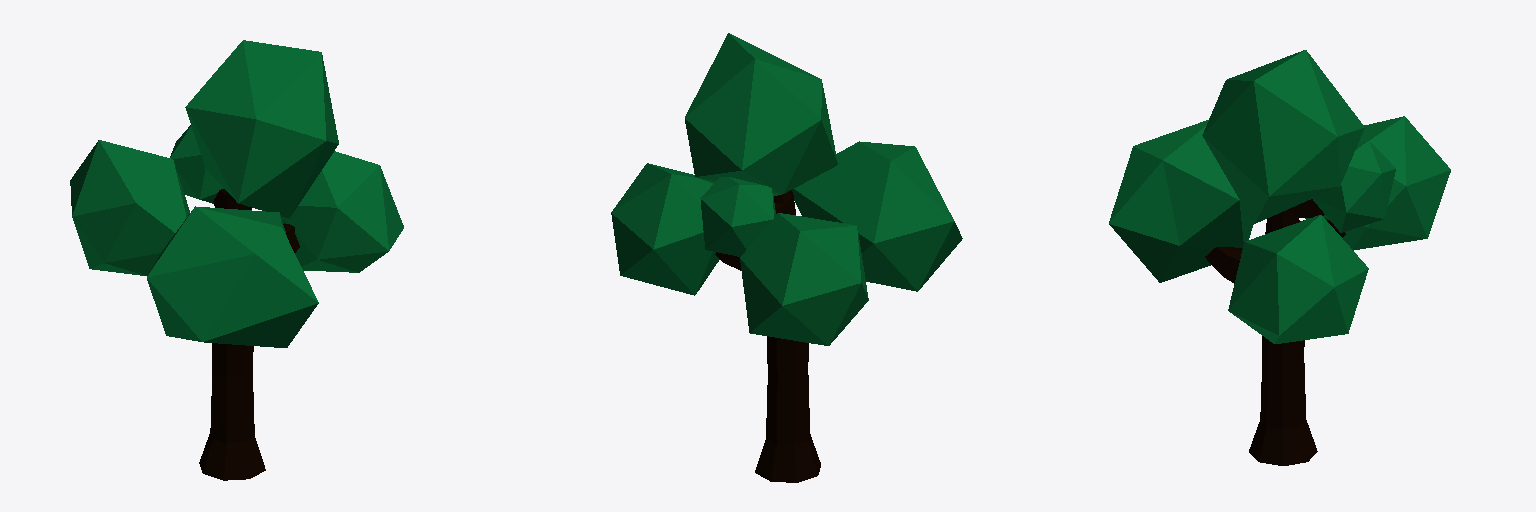
Rendered from tree.obj.
3 views of the same model, side by side, from view 1: azimuth 30°, elevation 25°; view 2: azimuth 150°, elevation 25°; view 3: azimuth 270°, elevation 25° (orthographic).
Parts seen in each view (by area): view 1: Icosphere.004, Cylinder_Cylinder.002; view 2: Icosphere.004, Cylinder_Cylinder.002; view 3: Icosphere.004, Cylinder_Cylinder.002.
Boxes of the visible parts, x1,y1,x2,y2 form: Icosphere.004: [70, 40, 403, 347]; Cylinder_Cylinder.002: [199, 189, 299, 480]; Icosphere.004: [611, 33, 962, 345]; Cylinder_Cylinder.002: [715, 190, 820, 482]; Icosphere.004: [1109, 50, 1450, 343]; Cylinder_Cylinder.002: [1205, 199, 1345, 465].
Size of the model in its own units: 2.97 by 3.96 by 2.98.